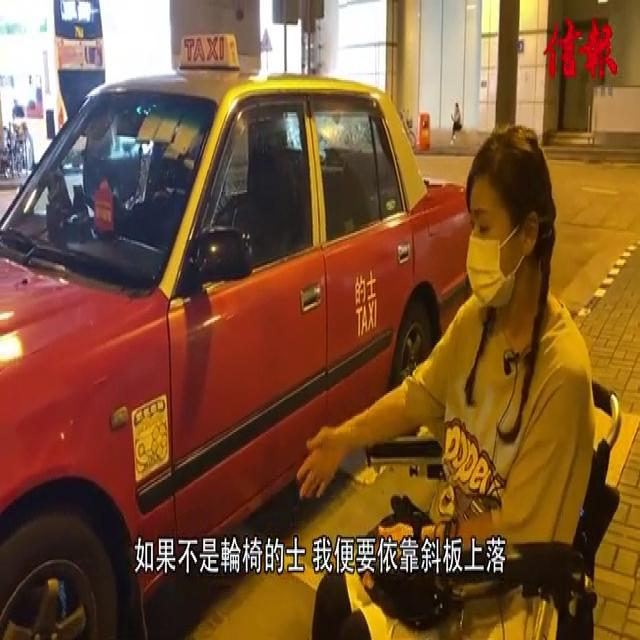wheelchairs: (363, 358, 628, 639)
